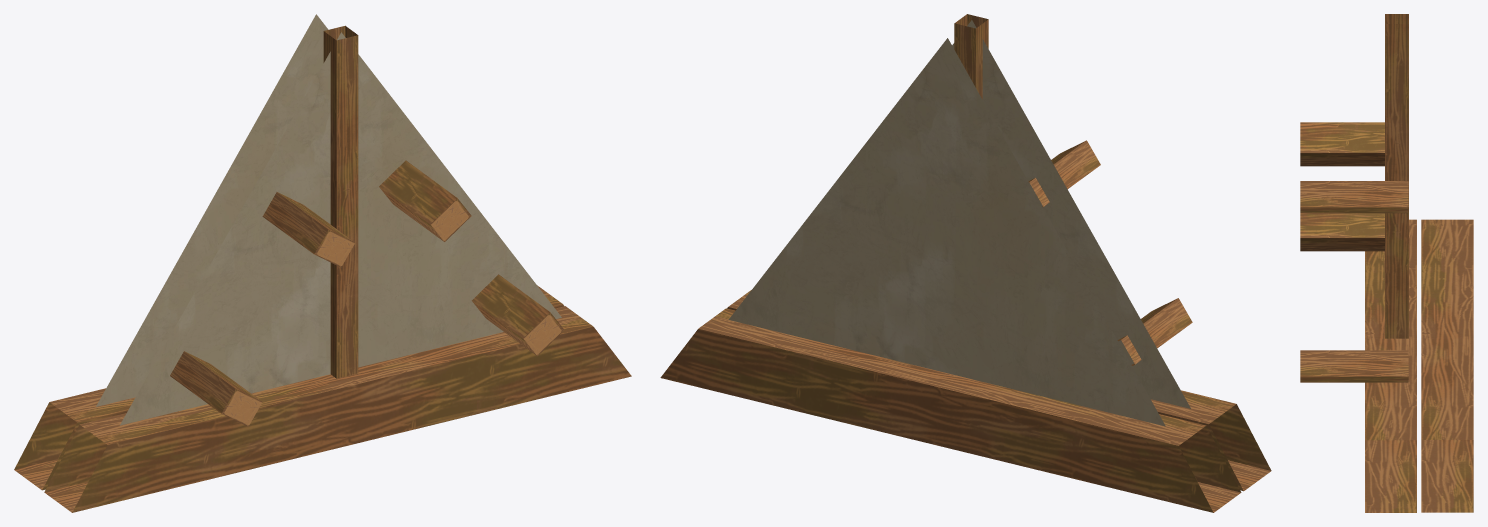
Rendered from Roof_Front_Brick2.gltf.
3 renders of one model, left to right at view 1: azimuth 30°, elevation 25°; view 2: azimuth 150°, elevation 25°; view 3: azimuth 270°, elevation 25°, orthographic. The views are drawn at different scales.
Parts seen in each view (by area): view 1: Roof_Front_Brick2; view 2: Roof_Front_Brick2; view 3: Roof_Front_Brick2.
Part boxes in pixels (<box>): Roof_Front_Brick2: <box>14,14,631,512</box>; Roof_Front_Brick2: <box>660,14,1271,512</box>; Roof_Front_Brick2: <box>1300,14,1473,512</box>.
Size of the model in its own units: 2.61 by 1.77 by 0.7513.
Materials: 2 (2 with a texture image).
